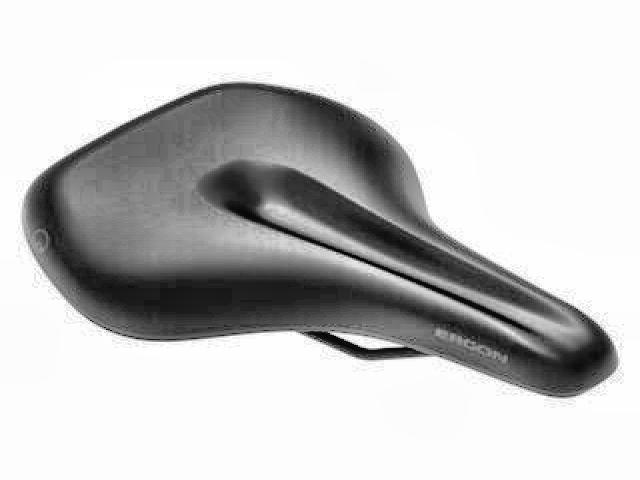saddle: (21, 81, 623, 404)
